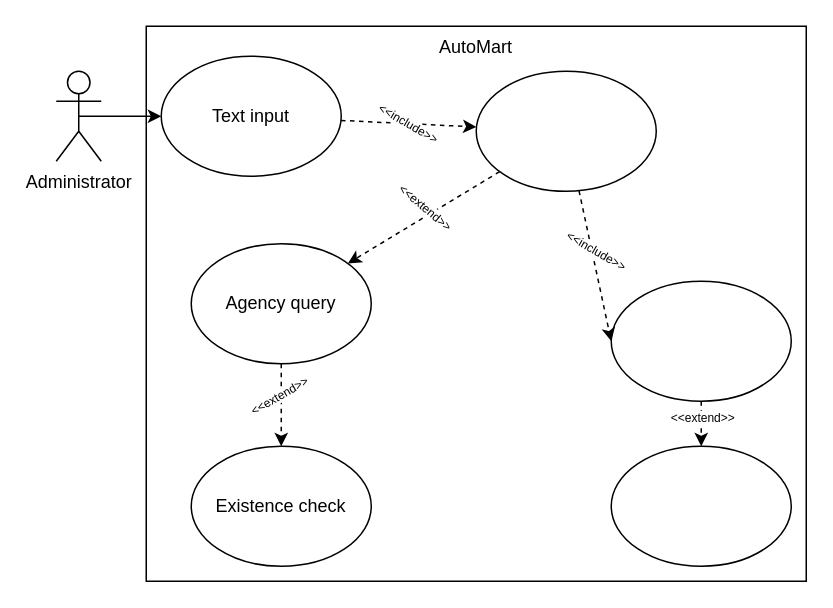
The diagram is 833 pixels wide and 608 high, and some of its shapes have lost their labels. The shapes that lost their labels are listed below. From the top down, each one's box as (x1, y1, x2, y2) in pixels, then its label:
(475, 70, 656, 191): Database access
(610, 280, 791, 401): Database edit
(610, 445, 791, 566): Database addition
